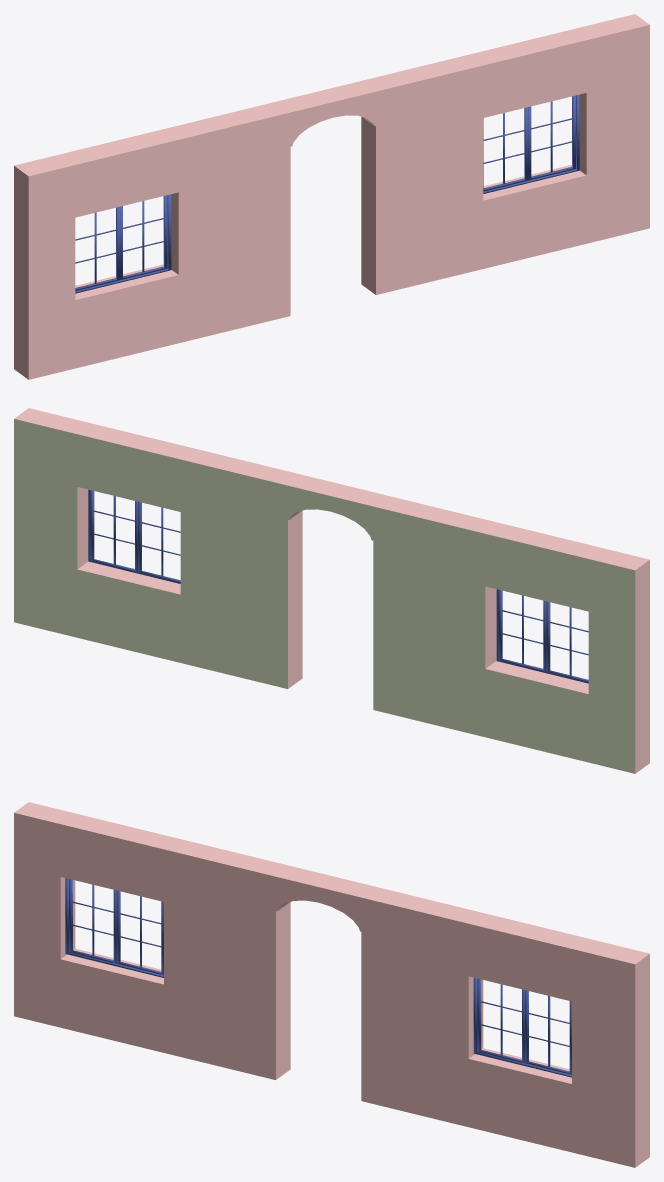
The model's file is Pared1.obj.
The picture shows the model from 3 angles, top to bottom: view 1: azimuth 30°, elevation 25°; view 2: azimuth 150°, elevation 25°; view 3: azimuth 330°, elevation 25°; orthographic projection.
Parts seen in each view (by area): view 1: Pared1:polySurface686; view 2: Pared1:polySurface686; view 3: Pared1:polySurface686.
Part boxes in pixels (x1,y1,x2,y2): Pared1:polySurface686: [14, 14, 649, 379]; Pared1:polySurface686: [14, 408, 649, 773]; Pared1:polySurface686: [14, 802, 649, 1167].
Size of the model in its own units: 21.2 by 6.64 by 0.8689.
4 materials, 4 textured.
